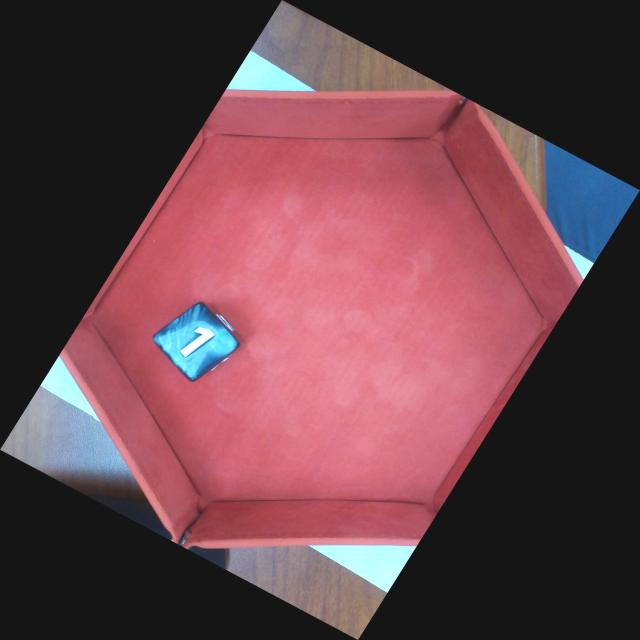dice: (148, 297, 243, 386)
